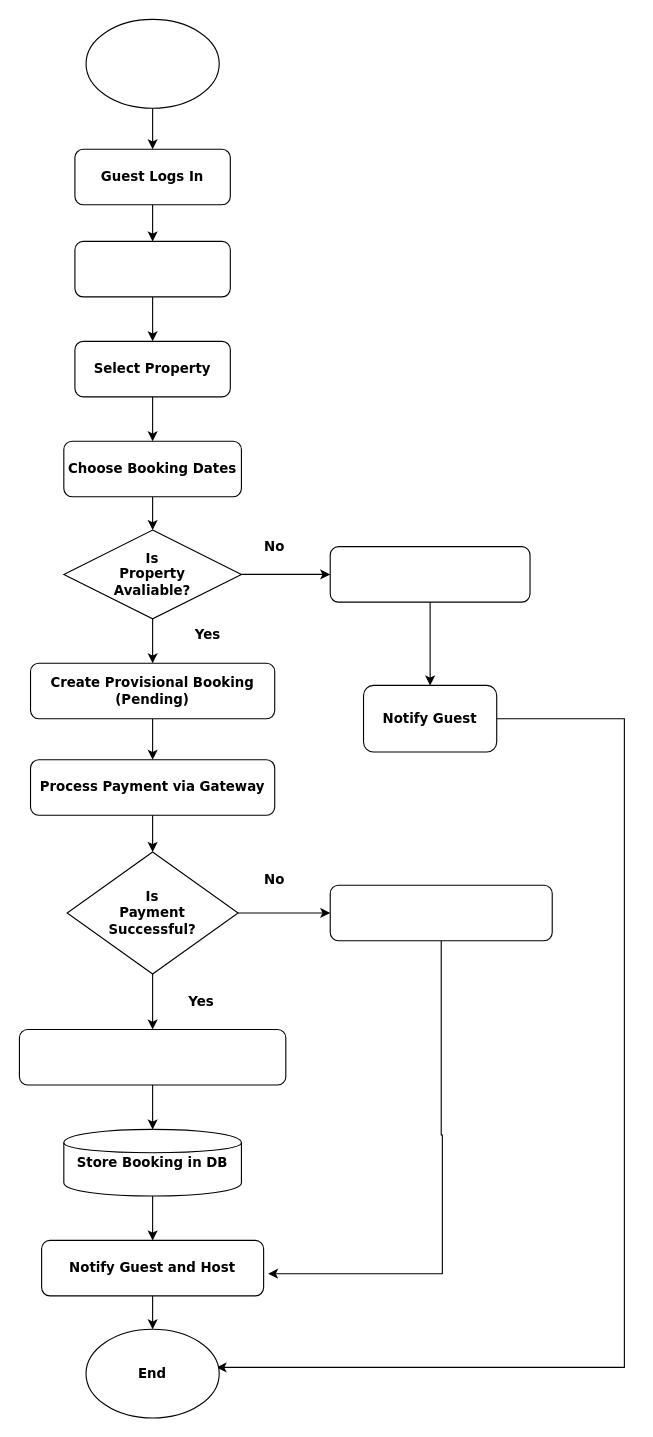
This 653x1437 diagram has some shape labels left out. Here are the shapes that lost their labels. From the top down, the centre of each, then its label:
At (x=152, y=63): "Start".
At (x=152, y=268): "Search Property".
At (x=429, y=574): "Show Error: Not Available".
At (x=440, y=912): "Cancel Booking (Payment Failed)".
At (x=152, y=1056): "Confirm Booking (Status: Confirmed)".
